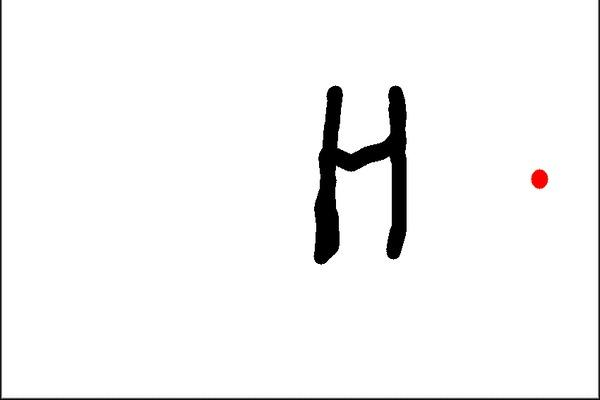H: (300, 72, 416, 267)
